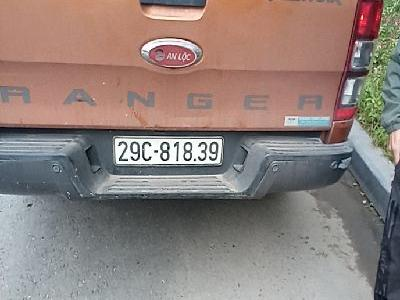car: (112, 136, 224, 168)
